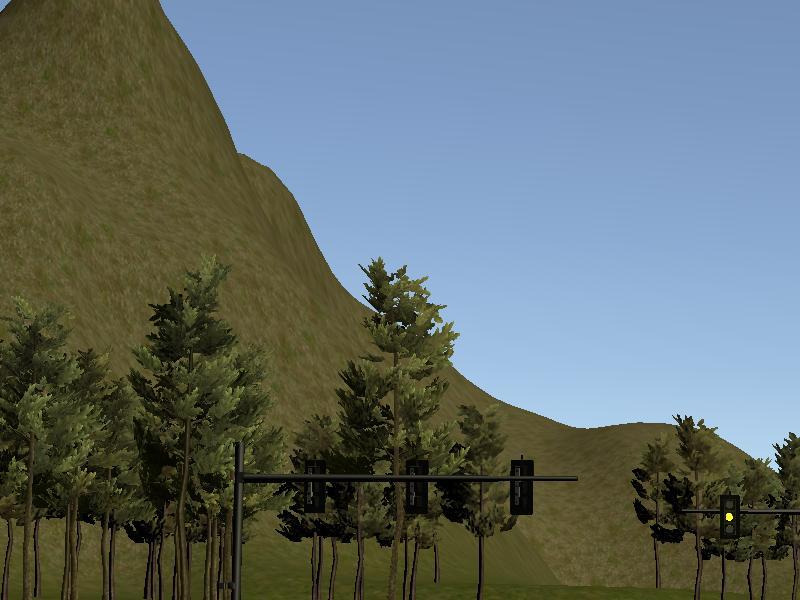Yellow: (720, 494, 740, 540)
